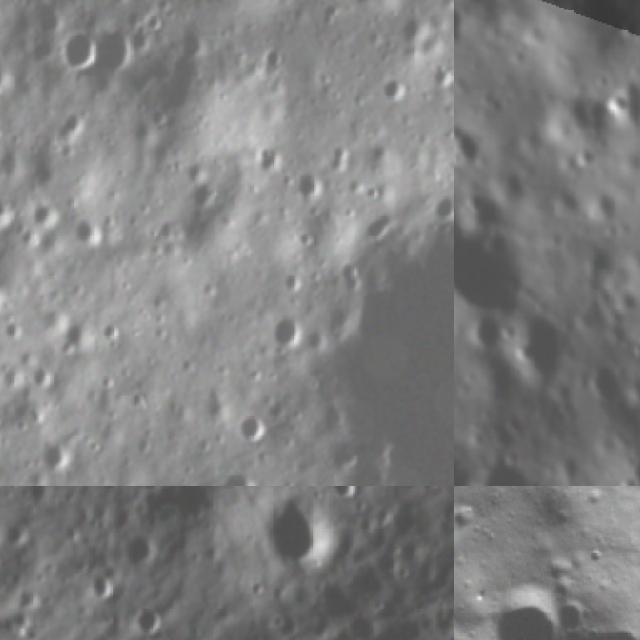crater: (328, 235, 454, 486), (258, 486, 354, 575), (503, 308, 578, 391), (481, 581, 570, 640), (469, 445, 541, 486), (550, 608, 640, 640), (578, 358, 624, 409), (97, 23, 137, 77), (269, 297, 308, 352), (466, 310, 508, 361), (58, 23, 98, 76), (124, 599, 177, 639), (454, 118, 488, 178), (581, 181, 625, 227), (122, 530, 162, 576), (342, 603, 388, 640), (555, 592, 596, 633), (63, 314, 101, 352), (396, 12, 436, 48), (38, 437, 77, 472), (292, 165, 334, 197), (212, 461, 263, 486), (602, 88, 635, 125), (380, 72, 414, 106), (258, 41, 285, 76), (238, 414, 271, 442), (429, 187, 454, 221), (21, 486, 57, 509), (29, 359, 54, 392), (3, 517, 30, 546), (0, 185, 17, 222), (332, 486, 363, 502)
